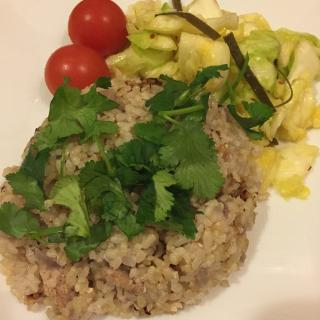tomato: (68, 0, 132, 56), (46, 44, 115, 90)
